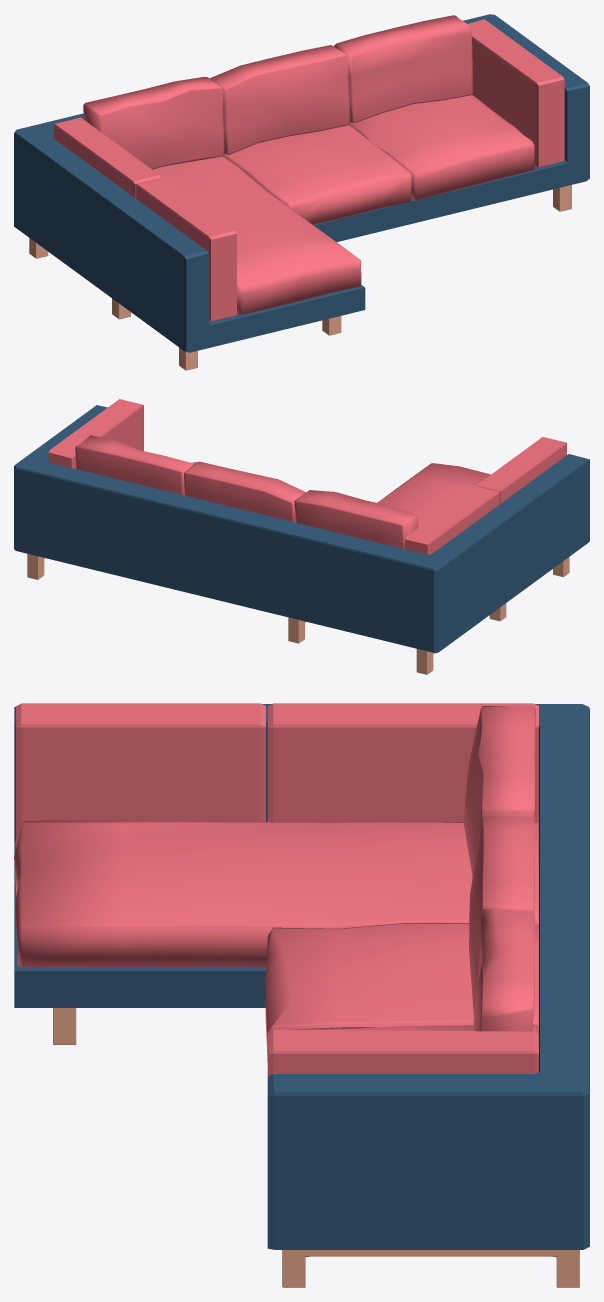
Rendered from sofaLarge.fbx.
3 renders of one model, top to bottom at view 1: azimuth 30°, elevation 25°; view 2: azimuth 150°, elevation 25°; view 3: azimuth 270°, elevation 25°, orthographic. The views are drawn at different scales.
Visible parts, largest first — view 1: Soffa; view 2: Soffa; view 3: Soffa.
Part boxes in pixels (x1=…): Soffa: x1=14, y1=14, x2=589, y2=370; Soffa: x1=14, y1=399, x2=589, y2=674; Soffa: x1=14, y1=703, x2=589, y2=1287.
Size of the model in its own units: 277 by 84.61 by 173.
Materials: 1 (1 with a texture image).
